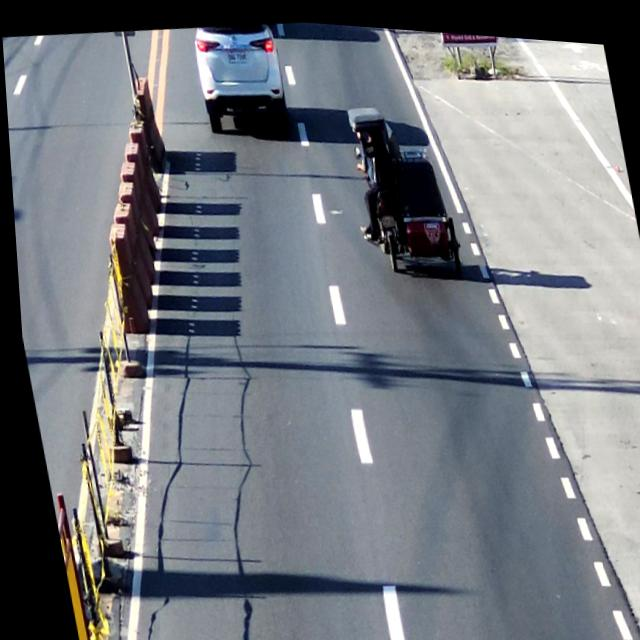Car: (187, 14, 294, 139)
License-Plate: (224, 40, 249, 63), (372, 205, 396, 225)
Tricycle: (340, 92, 462, 275)
